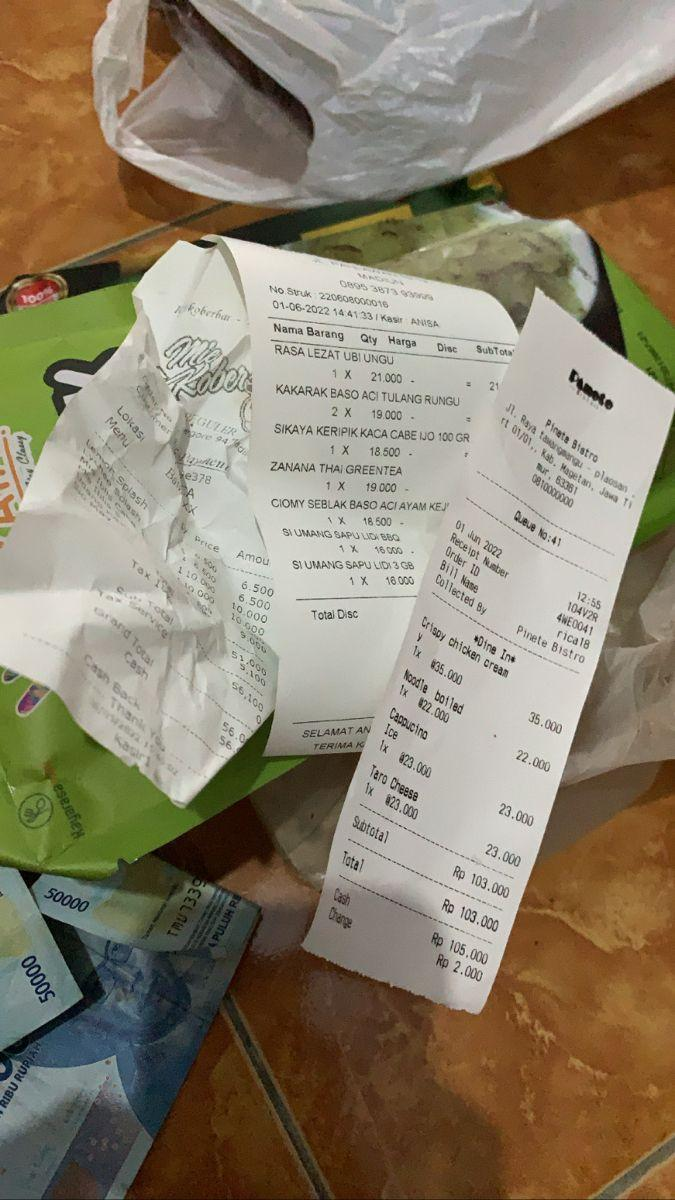receipt-in-hand: (0, 241, 513, 804), (305, 293, 672, 1011), (0, 244, 275, 803), (0, 860, 258, 1199), (32, 856, 256, 957), (0, 867, 80, 1048)
